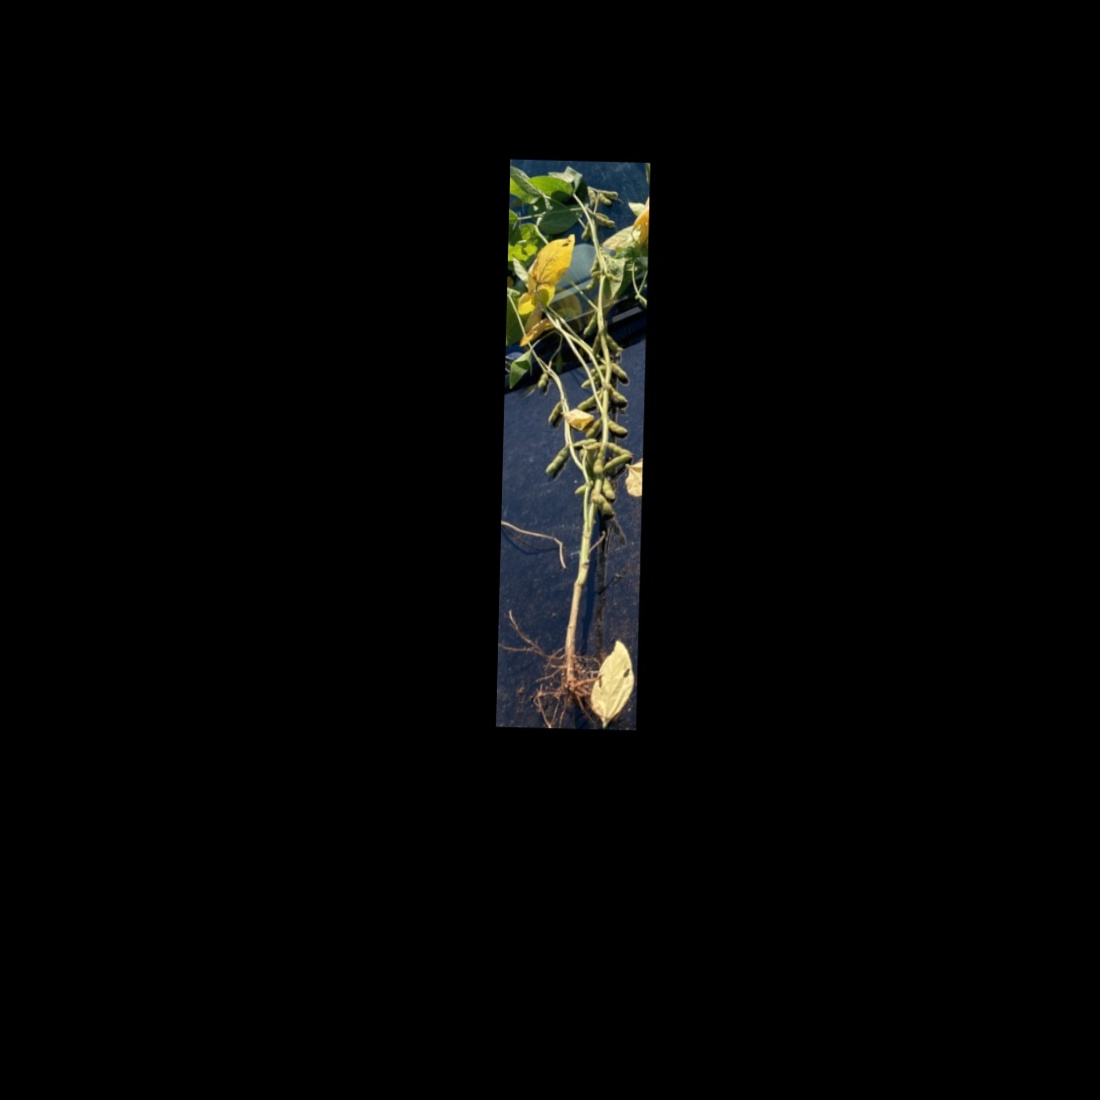pod: (541, 444, 571, 478), (599, 450, 634, 474), (605, 438, 635, 459), (546, 402, 566, 429), (605, 416, 630, 438), (590, 211, 617, 229), (601, 475, 616, 503), (585, 252, 598, 275), (578, 221, 591, 243), (536, 370, 550, 390), (585, 186, 597, 210), (596, 192, 613, 207)
soy: (500, 169, 648, 712)
